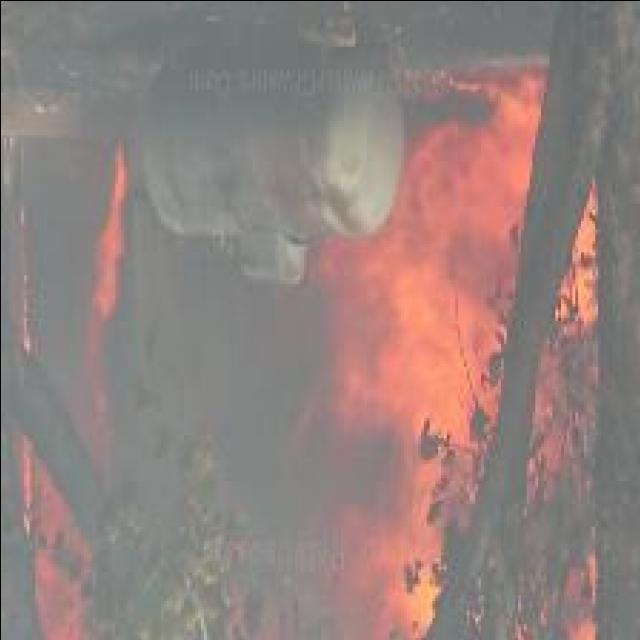Fire: (291, 69, 596, 640)
